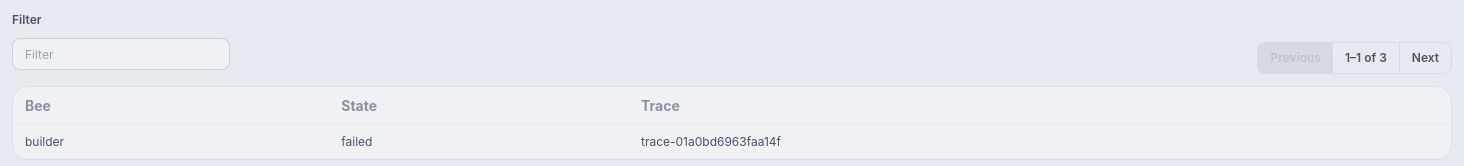
Test: DataTable list state › resets to the first page when the filter changes, and says so in the query
Click the button "Next".
click(1425, 58)  # box [1399,42,1452,74]
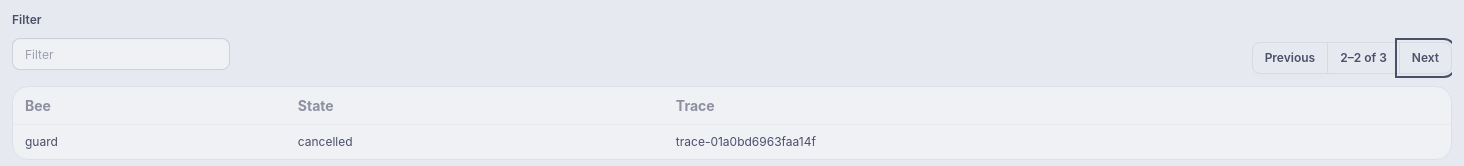
Type "guard" into the search field labelled "Filter".
click(121, 54); type("guard")  # box [12,38,230,70]
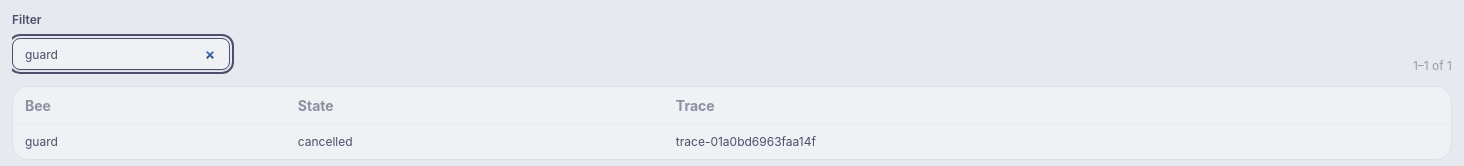
Expected: the text "1–1 of 1" is shown, [1413,58,1452,74]
